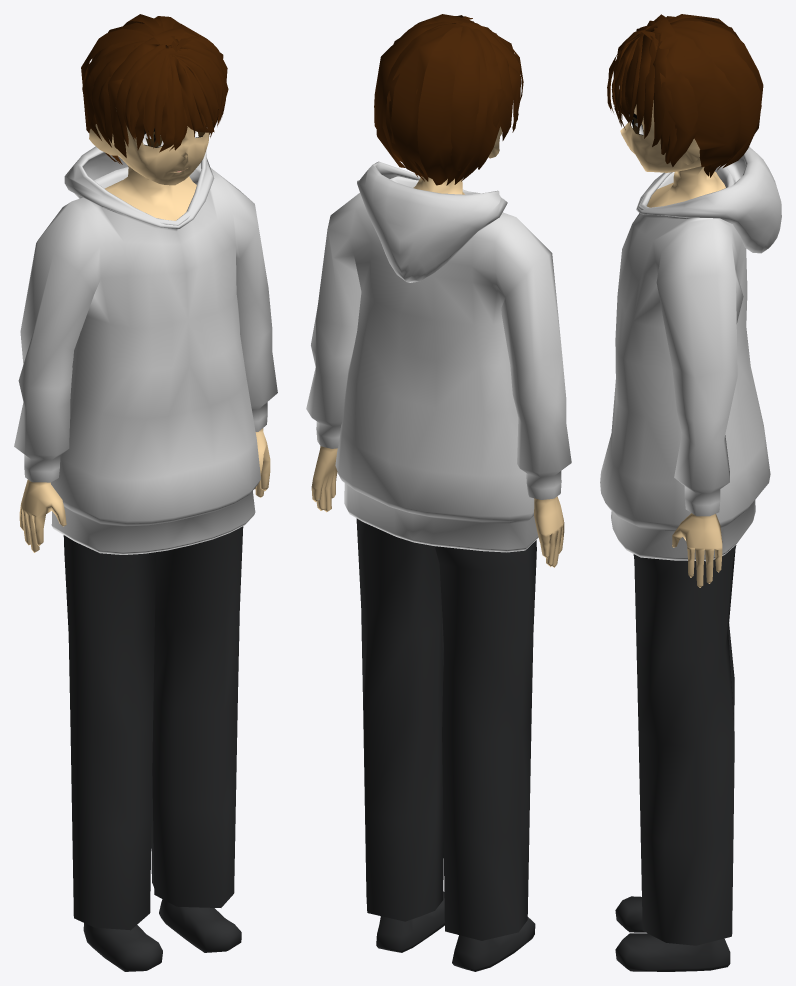
Rendered from Chara_Man.fbx.
3 views of the same model, side by side, from view 1: azimuth 30°, elevation 25°; view 2: azimuth 150°, elevation 25°; view 3: azimuth 270°, elevation 25° (orthographic).
Parts seen in each view (by area): view 1: others, body; view 2: others, body; view 3: others, body.
Part boxes in pixels (x1=…): others: x1=14, y1=131, x2=277, y2=971; body: x1=19, y1=14, x2=270, y2=552; others: x1=306, y1=161, x2=571, y2=971; body: x1=311, y1=14, x2=564, y2=567; others: x1=600, y1=117, x2=781, y2=971; body: x1=607, y1=14, x2=763, y2=587.
Bounding box in the file's own units: 51.8 × 179 × 31.96.
